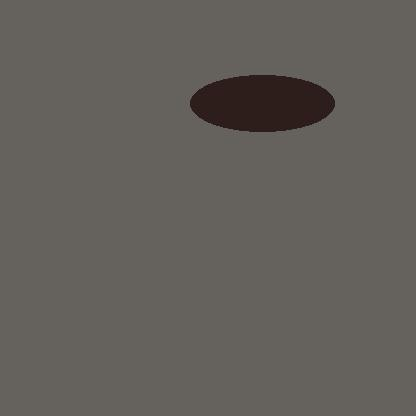pothole: (190, 75, 334, 131)
